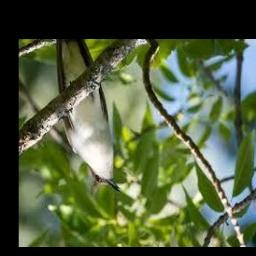Cuckoo: (57, 39, 121, 193)
